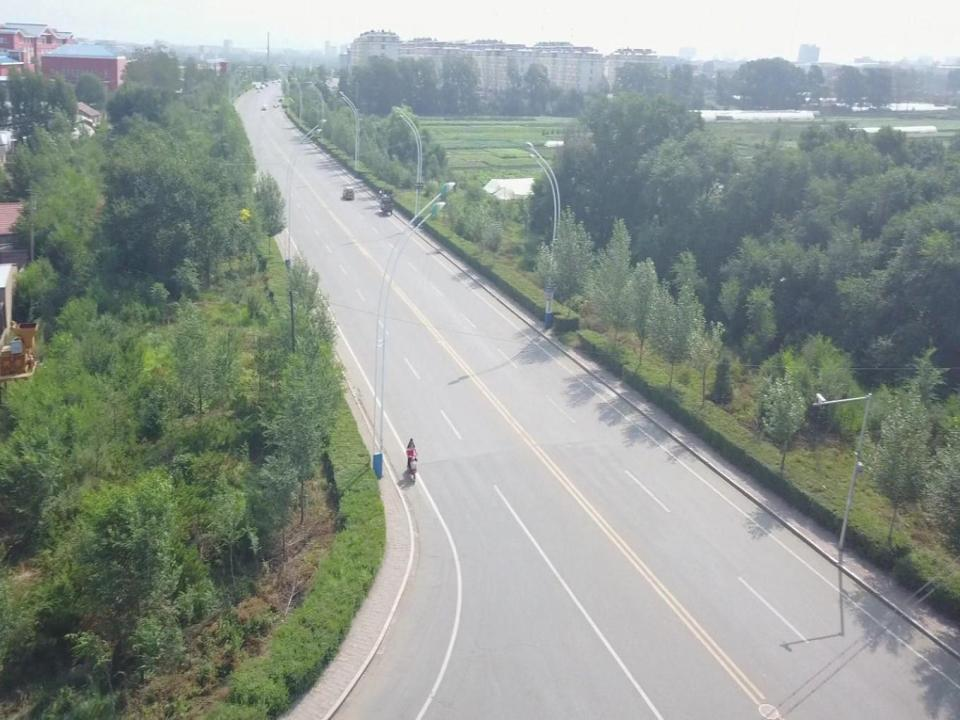car: (343, 186, 354, 200), (261, 104, 266, 110)
